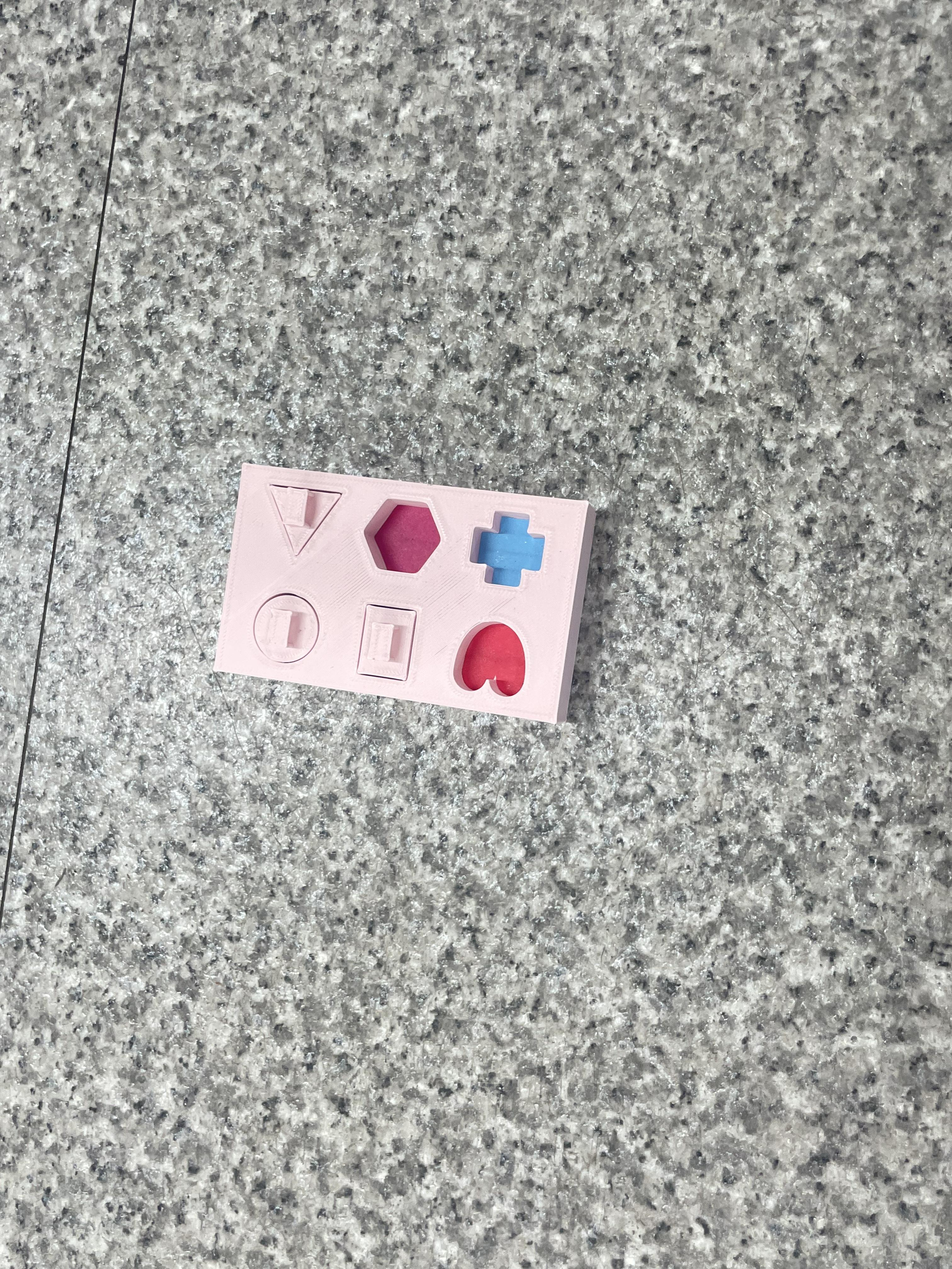unsolved: (201, 448, 629, 757)
